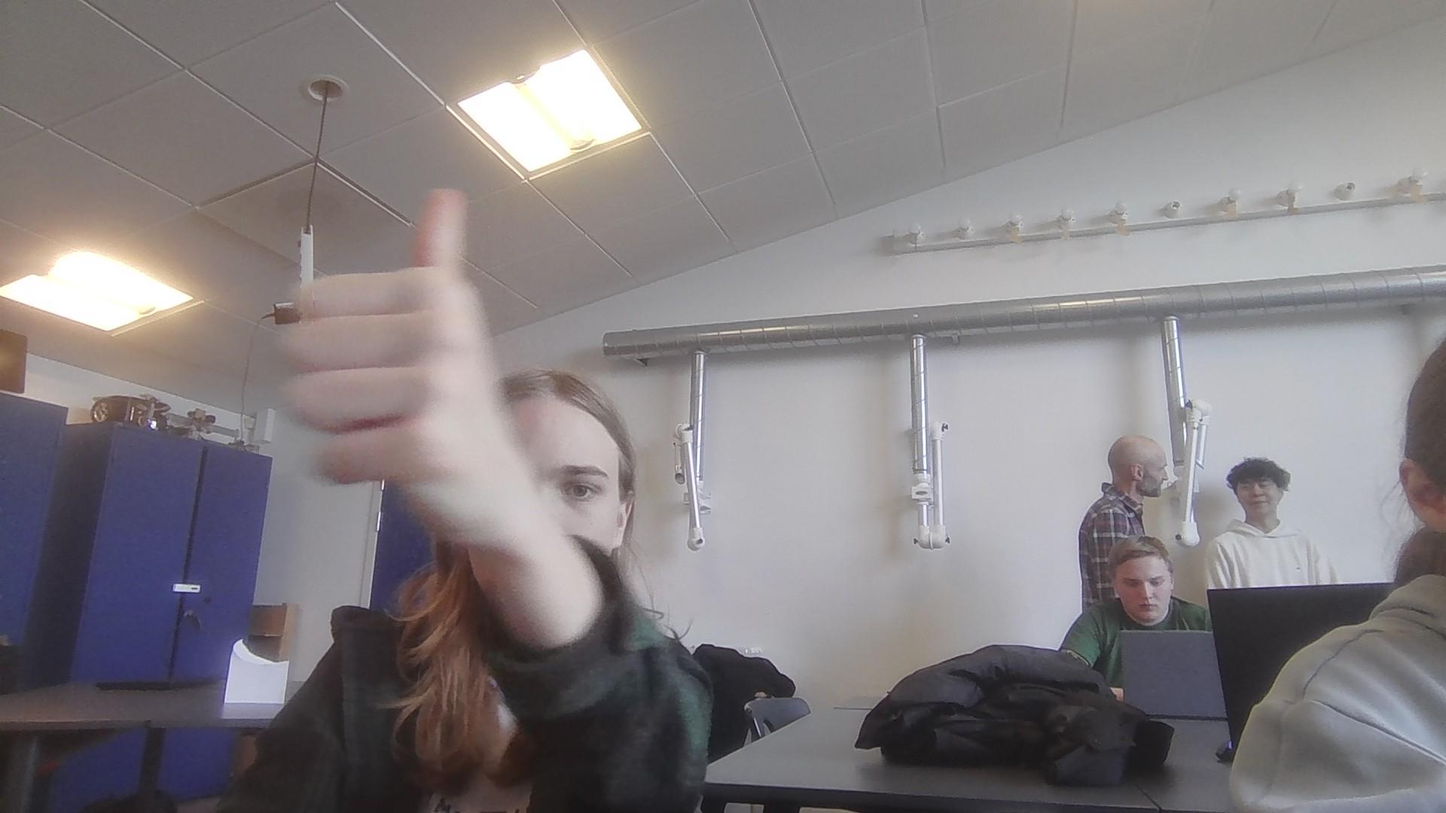thumbs up: (280, 172, 501, 529)
